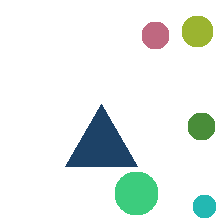circle: (115, 172, 157, 214), (182, 16, 212, 46), (188, 113, 214, 139), (142, 22, 168, 48), (193, 195, 215, 217)
triangle: (65, 104, 137, 166)
